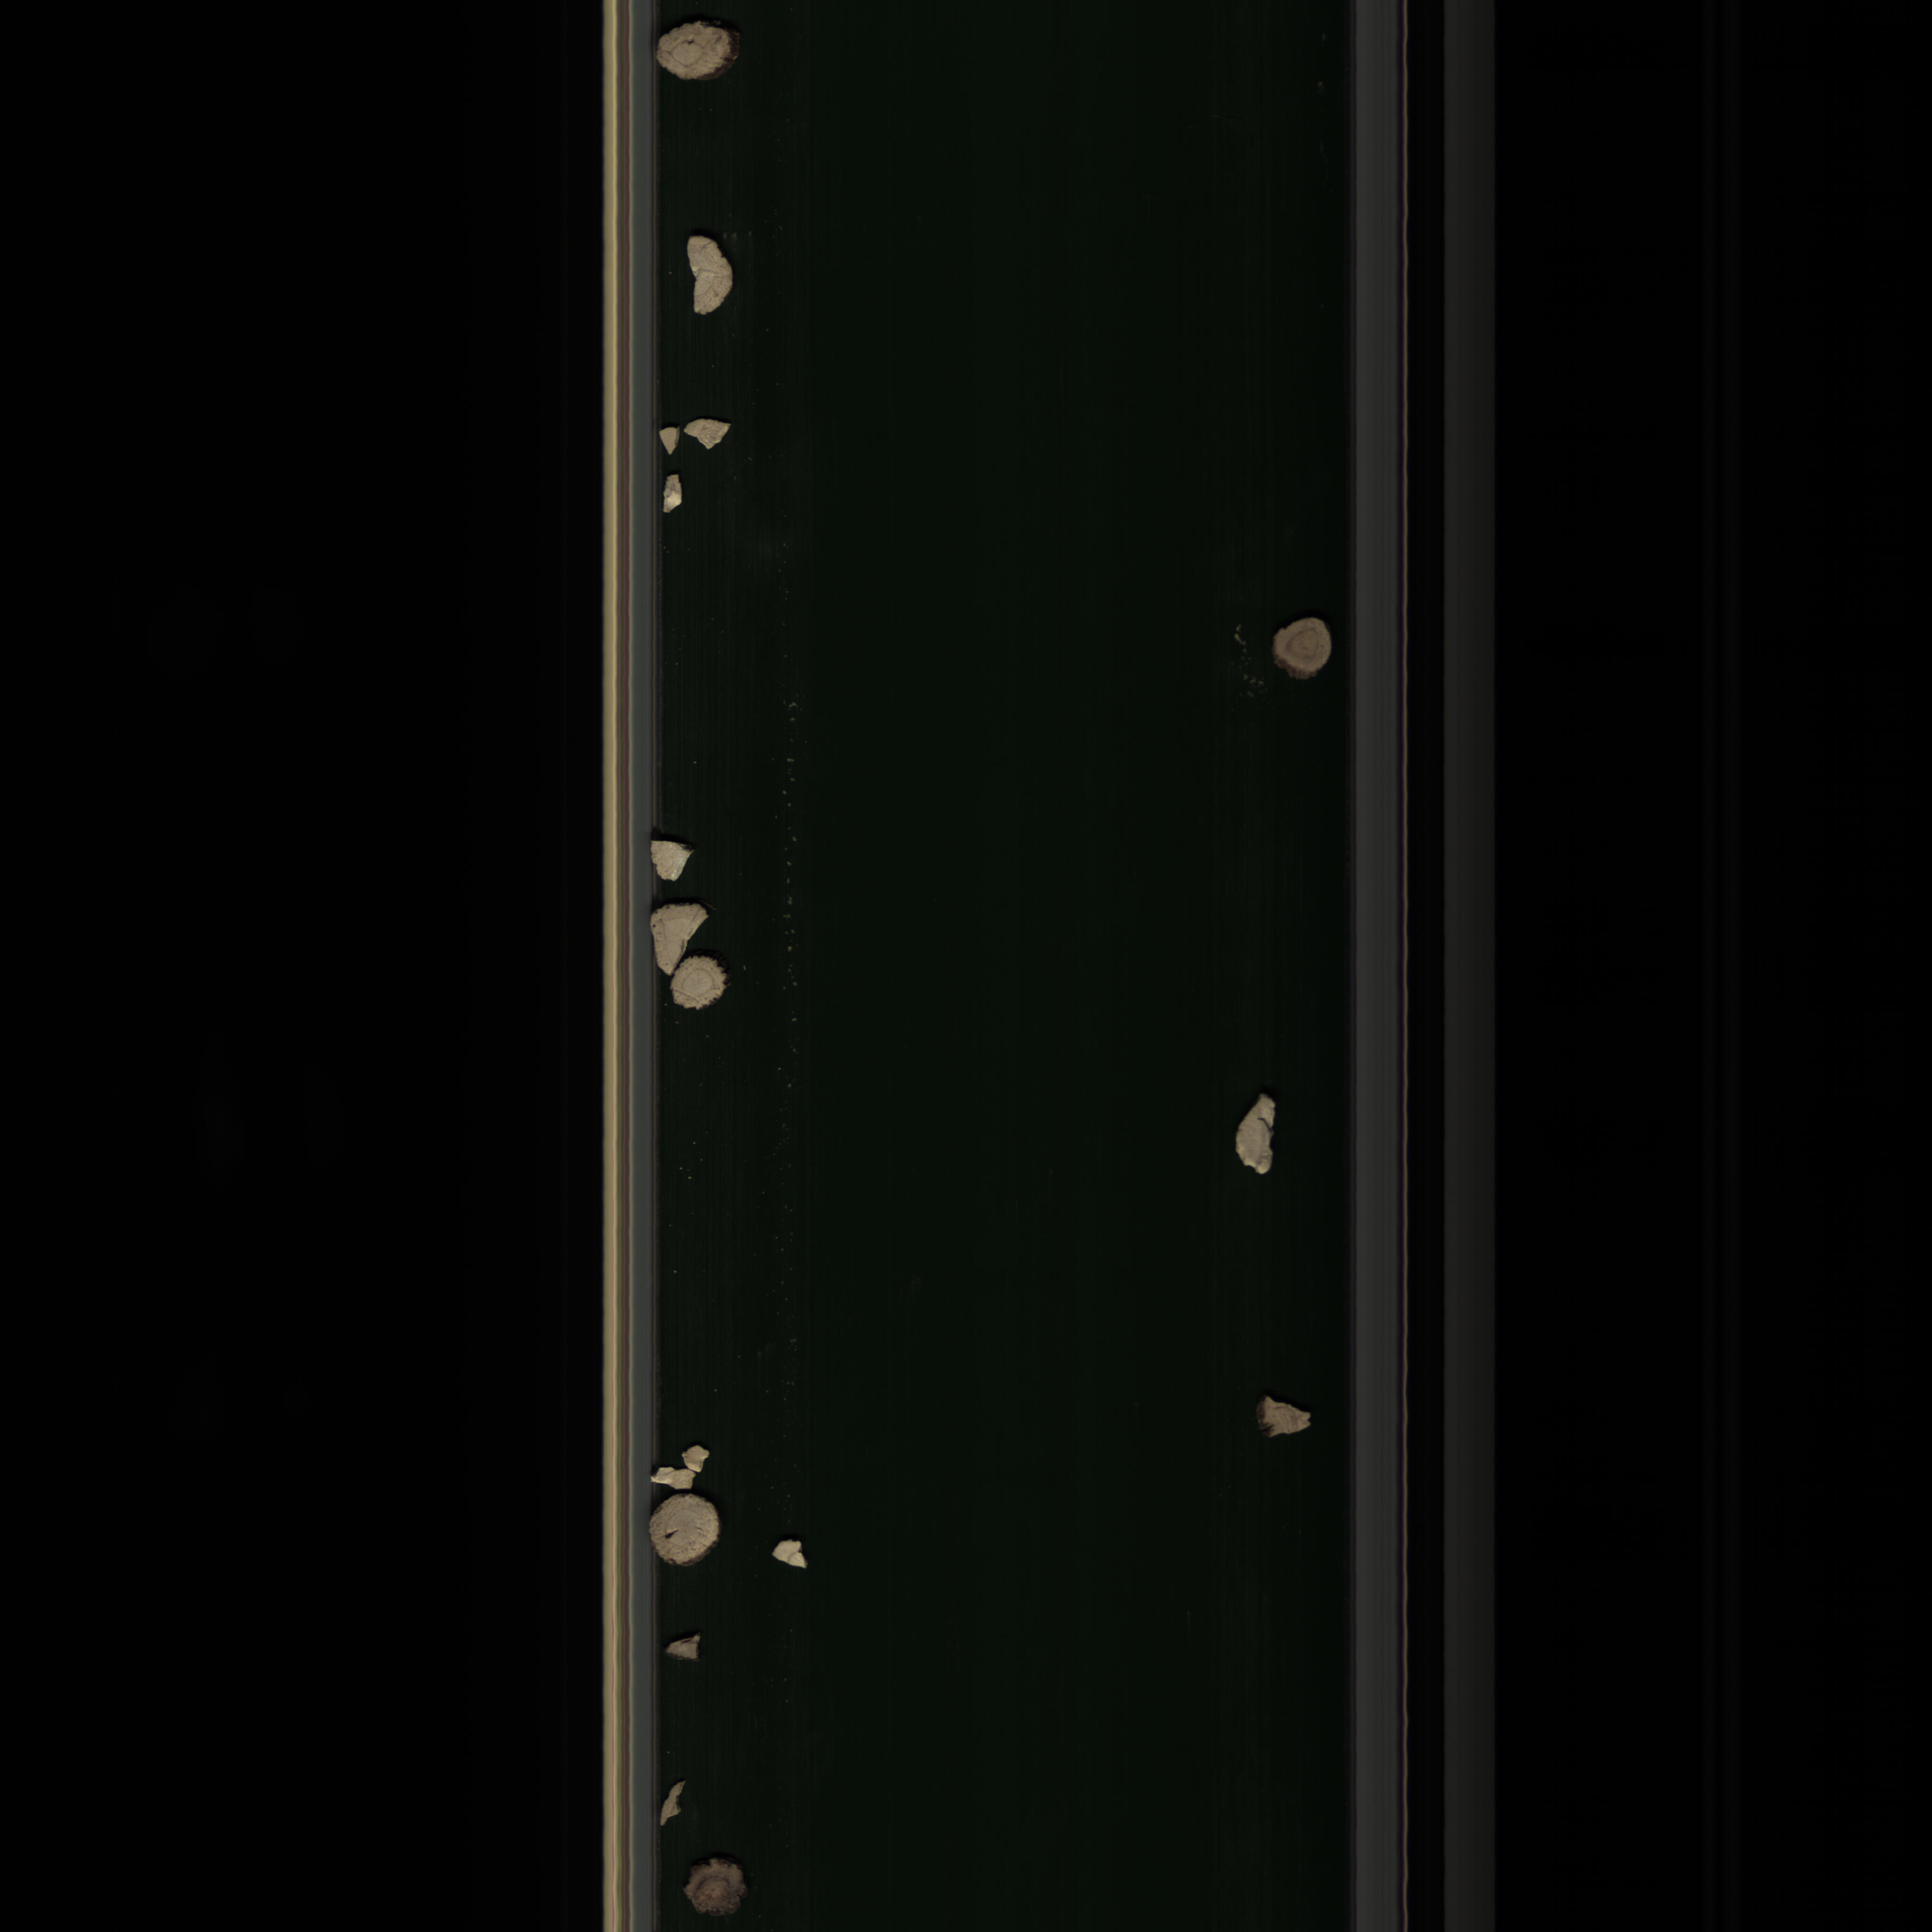bark: (660, 1631, 711, 1672)
debris: (674, 221, 738, 331), (1224, 1085, 1284, 1185), (649, 897, 718, 980), (1244, 1389, 1315, 1445), (649, 1442, 711, 1495), (642, 832, 690, 886), (766, 1536, 816, 1578), (656, 1773, 690, 1833), (683, 418, 732, 451), (658, 472, 692, 518), (656, 425, 685, 464)
hole: (642, 1491, 731, 1575), (649, 19, 750, 88)
moldy: (1265, 602, 1345, 686), (683, 1852, 754, 1921)
